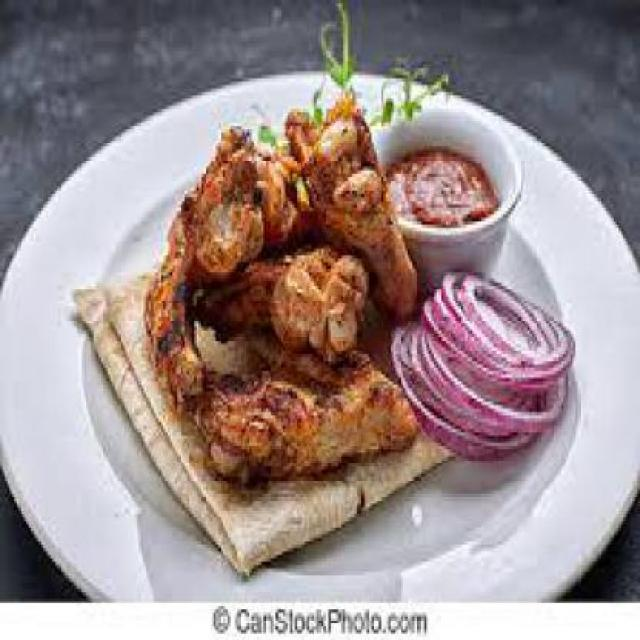chicken wings: (151, 88, 415, 484)
onion rings: (379, 252, 583, 470)
